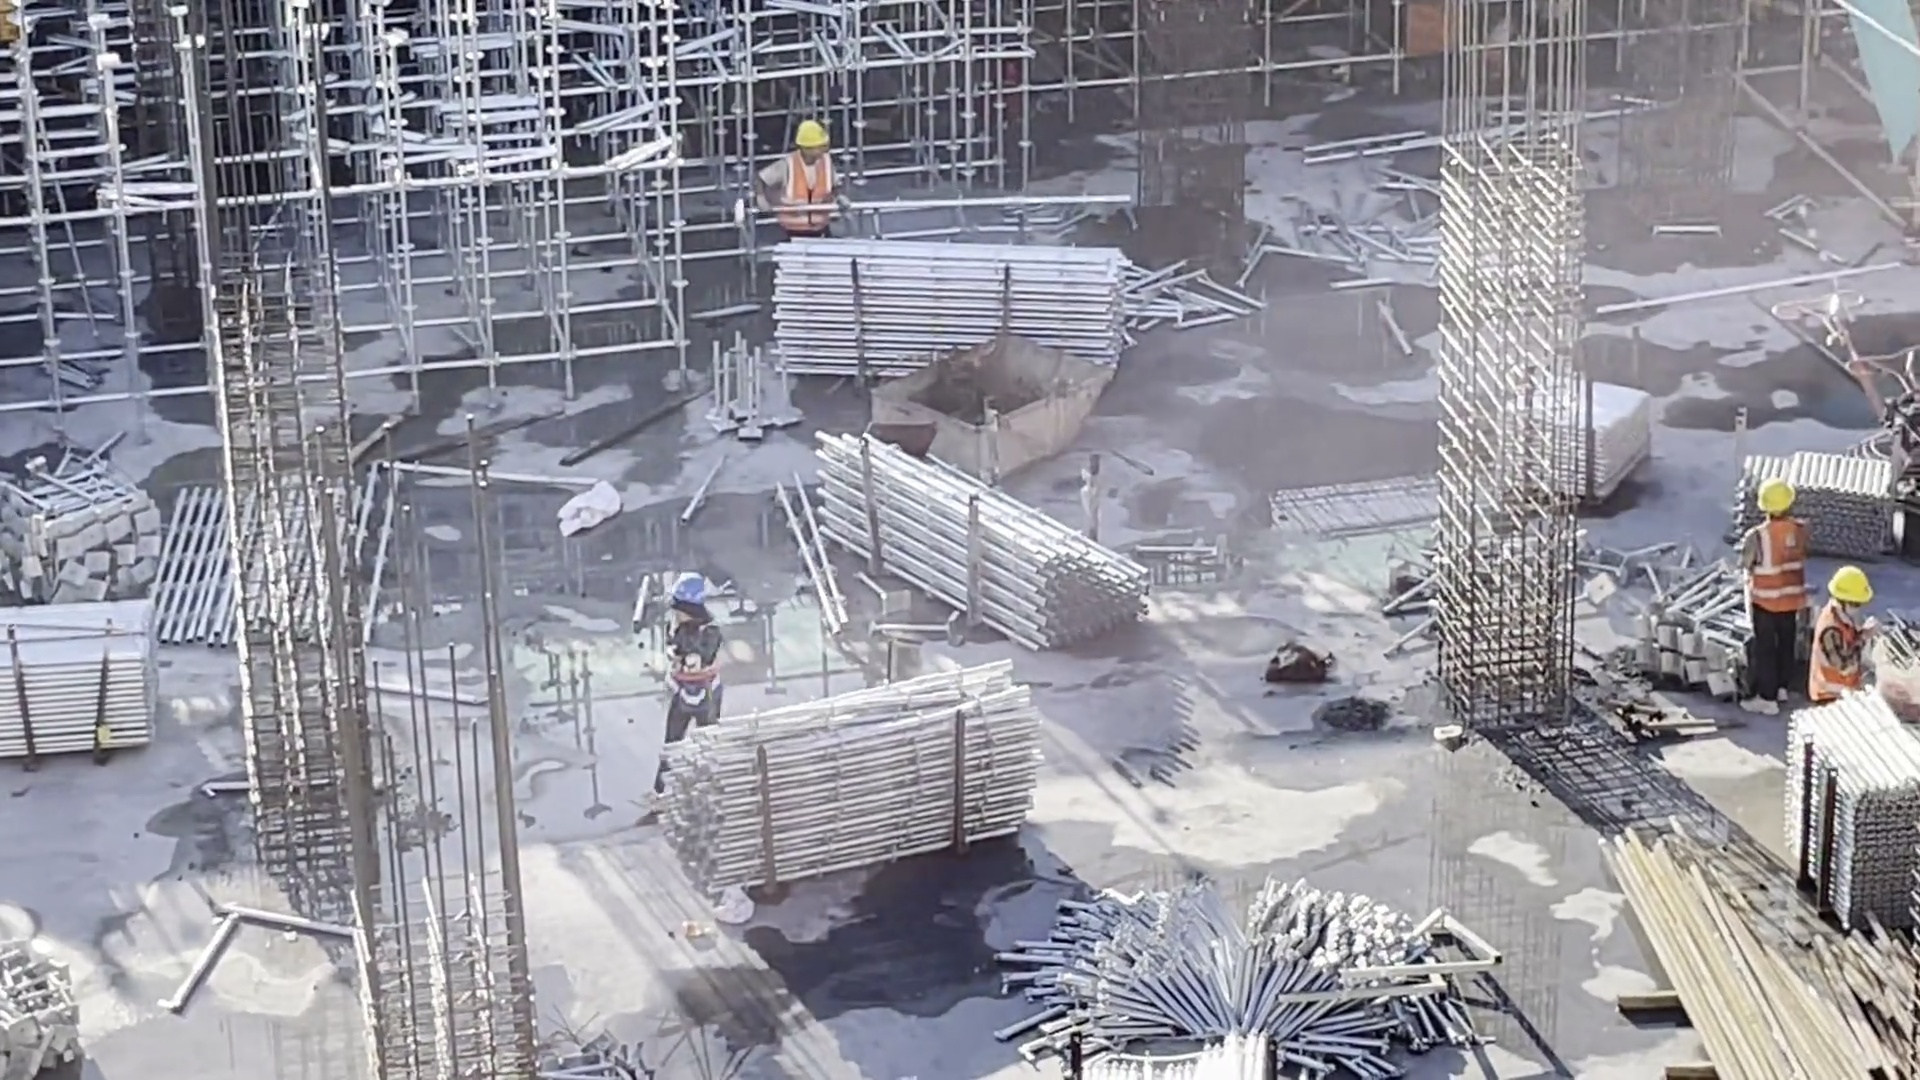helmet: (1829, 561, 1881, 612), (1759, 478, 1806, 517), (793, 122, 834, 154), (677, 578, 708, 613)
hopper: (869, 330, 1112, 494)
person: (1726, 476, 1811, 709), (655, 574, 732, 763), (748, 115, 837, 241), (1801, 561, 1877, 704)
scaffold: (788, 418, 1166, 654), (1004, 873, 1468, 1050), (672, 668, 1048, 885), (771, 227, 1140, 376), (1767, 673, 1911, 937), (1, 430, 162, 593), (1, 595, 171, 739), (1496, 357, 1658, 504), (1723, 433, 1897, 562), (1666, 552, 1785, 692), (9, 914, 97, 1080), (1058, 1027, 1295, 1080)
vest: (1809, 611, 1870, 696), (664, 623, 728, 704), (1751, 526, 1807, 613), (782, 160, 836, 232)
